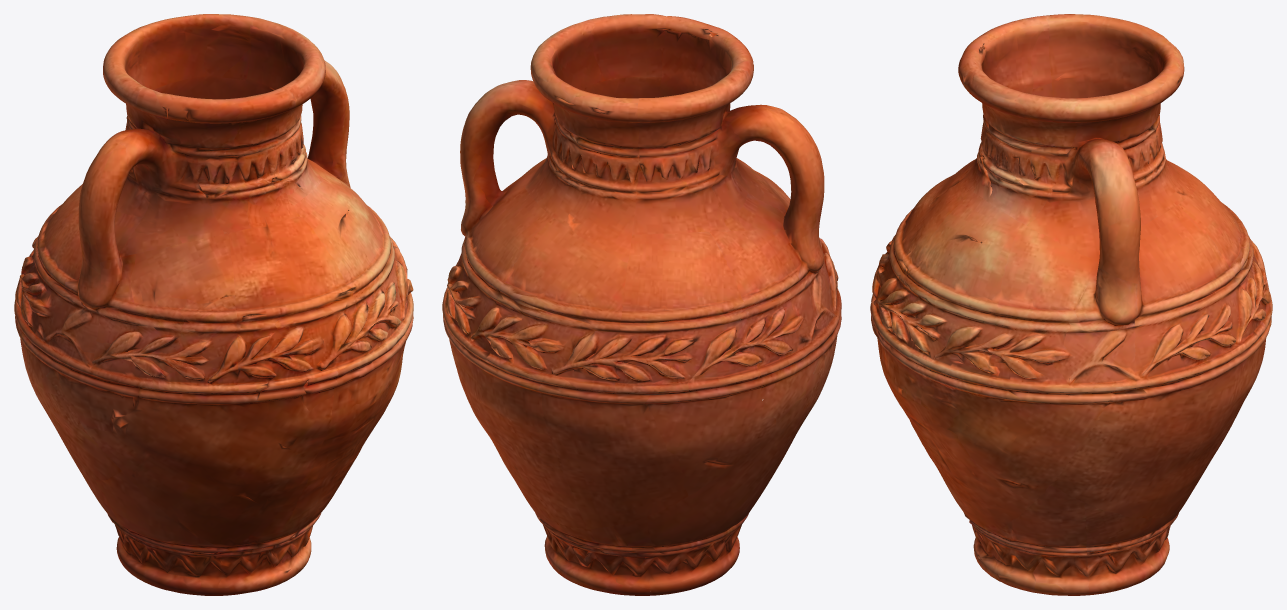
File: firewood.glb
3 renders of one model, left to right at view 1: azimuth 30°, elevation 25°; view 2: azimuth 150°, elevation 25°; view 3: azimuth 270°, elevation 25°, orthographic.
Visible parts, largest first — view 1: tripo_node_479233f6-9cb2-408a-b189-dcca4628556c; view 2: tripo_node_479233f6-9cb2-408a-b189-dcca4628556c; view 3: tripo_node_479233f6-9cb2-408a-b189-dcca4628556c.
Part boxes in pixels (x1,y1,x2,y2): tripo_node_479233f6-9cb2-408a-b189-dcca4628556c: (14, 14, 413, 595); tripo_node_479233f6-9cb2-408a-b189-dcca4628556c: (442, 14, 841, 595); tripo_node_479233f6-9cb2-408a-b189-dcca4628556c: (870, 14, 1272, 595).
Bounding box in the file's own units: 0.7043 × 0.98 × 0.7108.
Materials: 1 (1 with a texture image).
